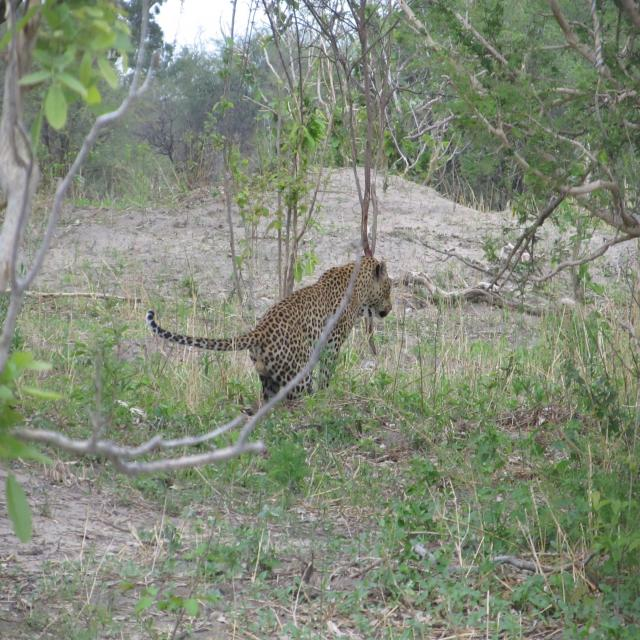Leopard: (163, 252, 406, 432)
